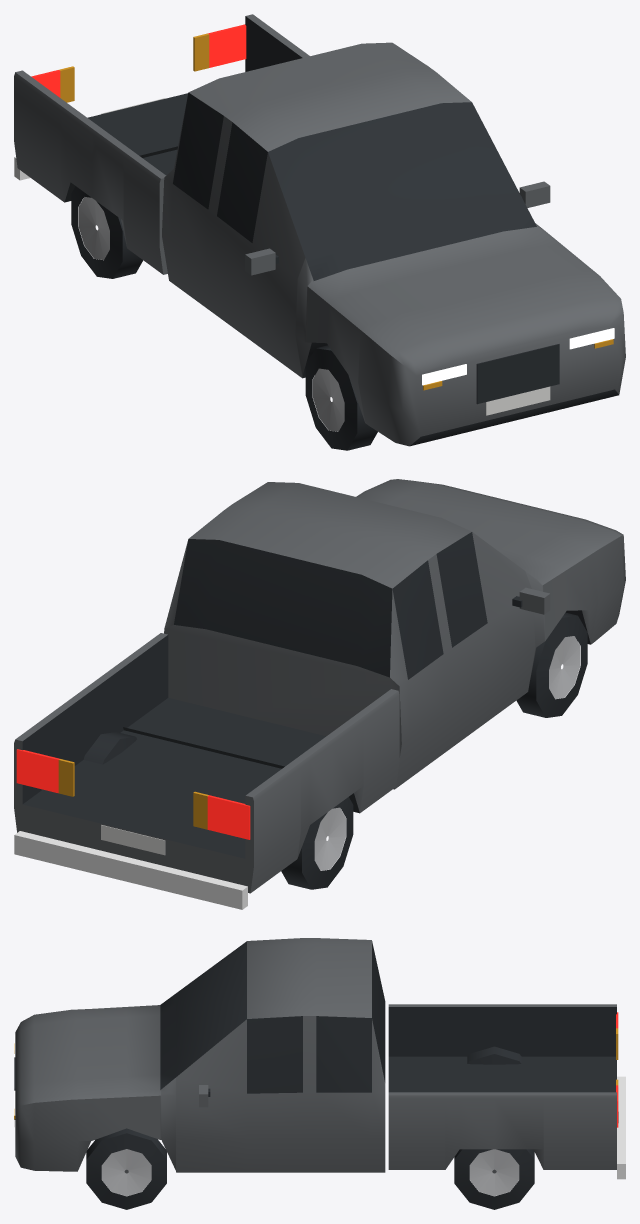
The model's file is pickup_grey_lod1.glb.
3 views of the same model, one above another, from view 1: azimuth 30°, elevation 25°; view 2: azimuth 150°, elevation 25°; view 3: azimuth 270°, elevation 25° (orthographic). The views are drawn at different scales.
Visible parts, largest first — view 1: pickup_grey_lod1; view 2: pickup_grey_lod1; view 3: pickup_grey_lod1.
Part boxes in pixels (box(x1,y1,x2,y2)): pickup_grey_lod1: box(14, 14, 625, 450); pickup_grey_lod1: box(14, 479, 625, 909); pickup_grey_lod1: box(14, 938, 625, 1209).
Size of the model in its own units: 0.1215 by 0.096 by 0.2746.
